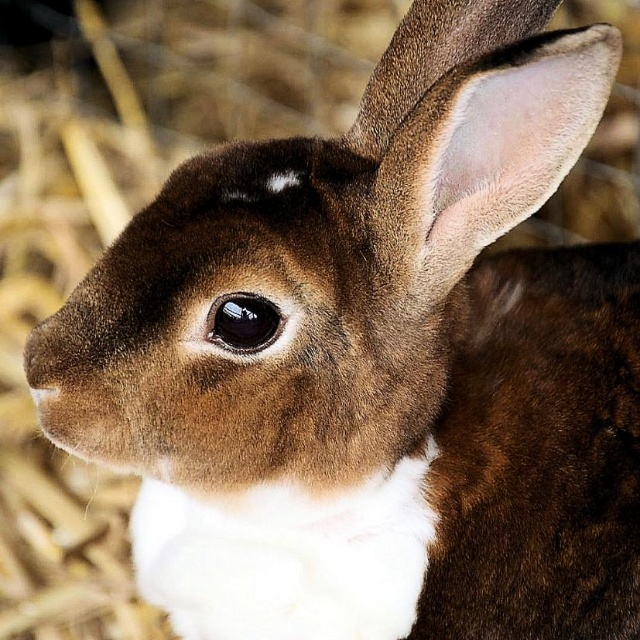Rabbit: (24, 0, 639, 639)
